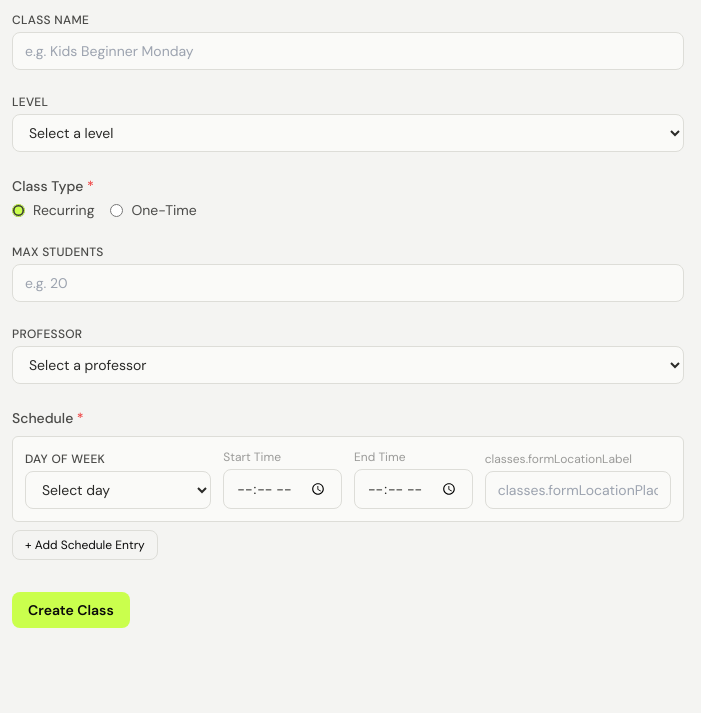
it: ClassForm (create mode) › validates max students is required on submit
Step 1. Type "Test Class" into the field labelled "Class Name" → x=348, y=51, box [12, 32, 684, 70]
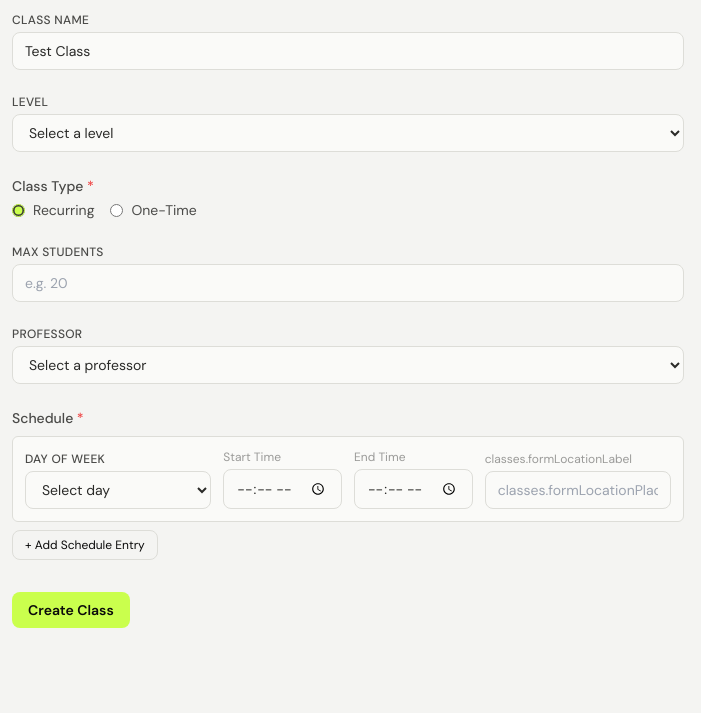
Step 2. Select "Beginner" in the dropdown labelled "Level" → x=348, y=133, box [12, 114, 684, 152]
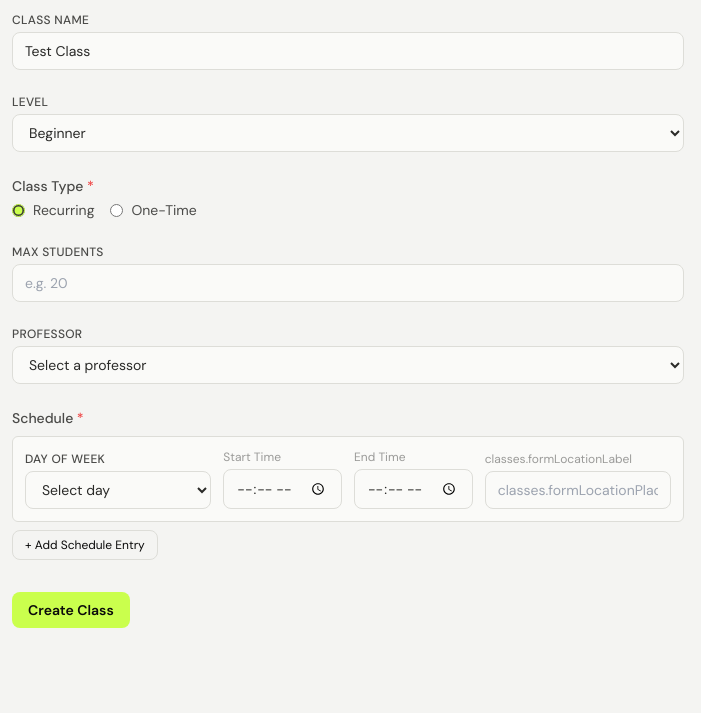
Step 3. Click the button "Create Class" → x=71, y=610, box [12, 592, 130, 628]
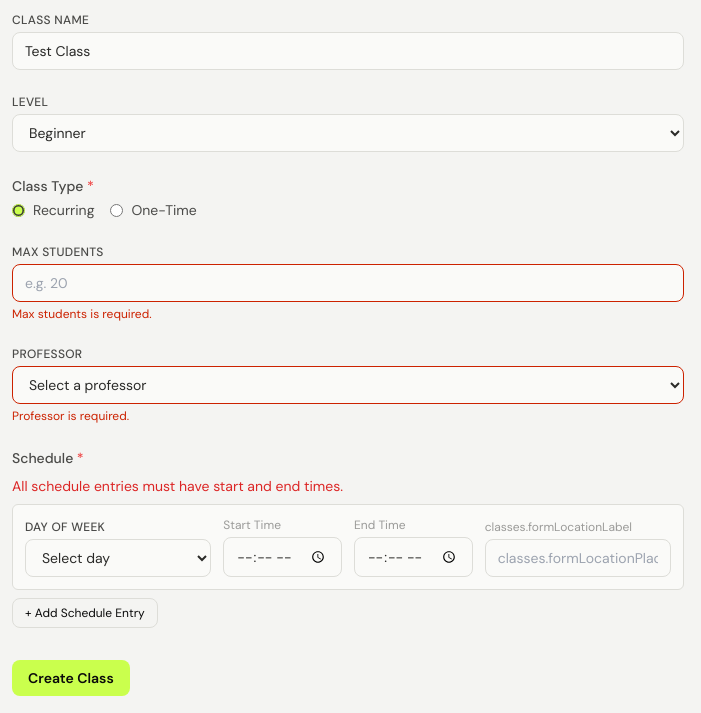
Expected: the text "Max students is required." is shown, [12, 306, 152, 322]
